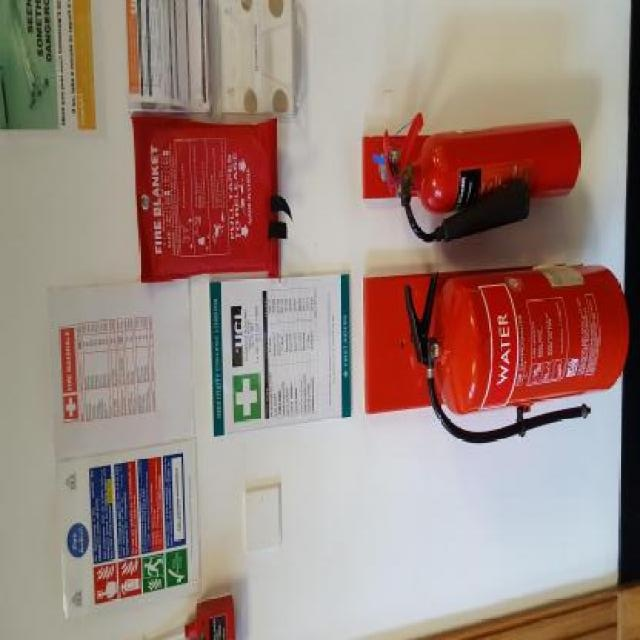fire extinguisher: (404, 264, 630, 445), (383, 113, 580, 242)
